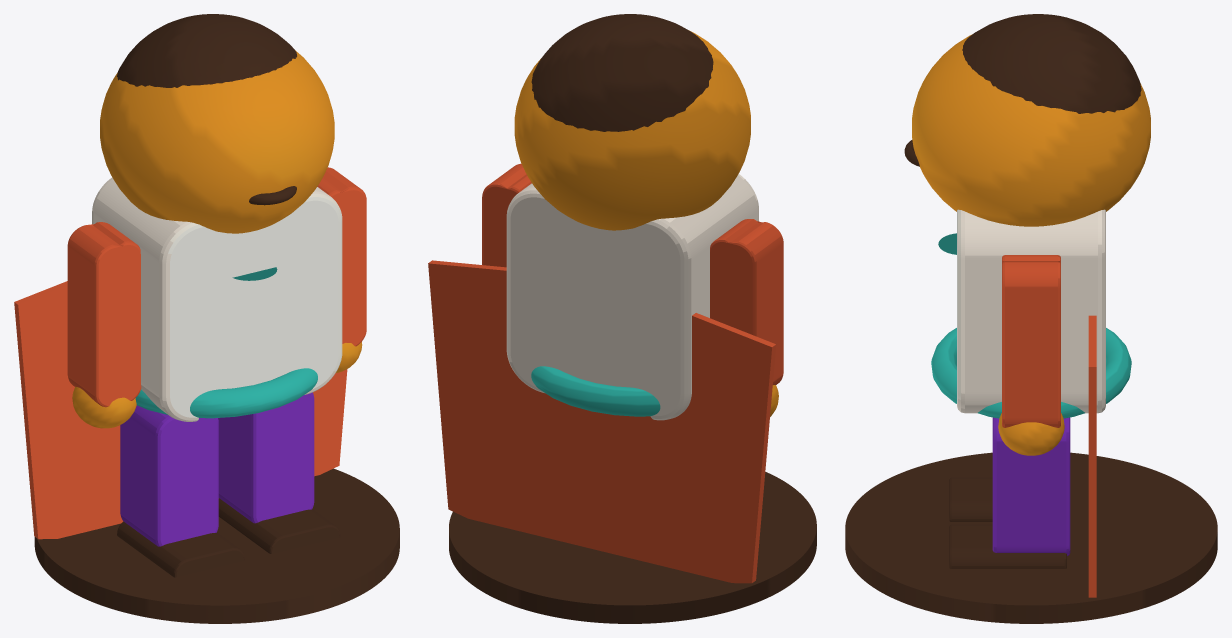
The model's file is 1159_海底两万里_天堂鸟.glb.
The picture shows the model from 3 angles, left to right: view 1: azimuth 30°, elevation 25°; view 2: azimuth 150°, elevation 25°; view 3: azimuth 270°, elevation 25°; orthographic projection.
Visible parts, largest first — view 1: card_1159; view 2: card_1159; view 3: card_1159.
Part boxes in pixels (<box>): card_1159: <box>14,14,399,623</box>; card_1159: <box>428,14,816,623</box>; card_1159: <box>845,14,1217,623</box>.
Size of the model in its own units: 0.6739 by 1 by 0.6329.
